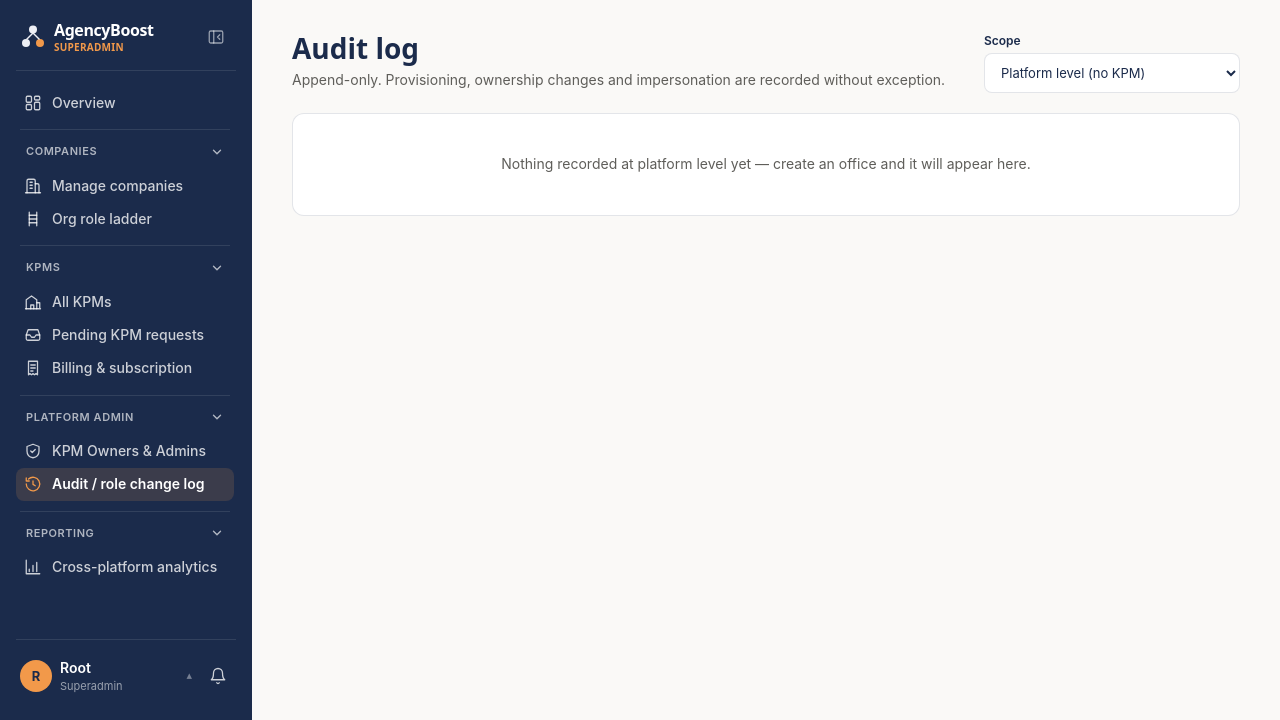
Test: audit log › tells an empty tenant scope apart from an empty platform scope
Expected: the text "Nothing recorded at platform level yet" is shown, [501, 155, 1031, 172]
Select "0417 · BSD City Branch" in the dropdown labelled "Scope" at (1112, 73), box [984, 53, 1240, 93]
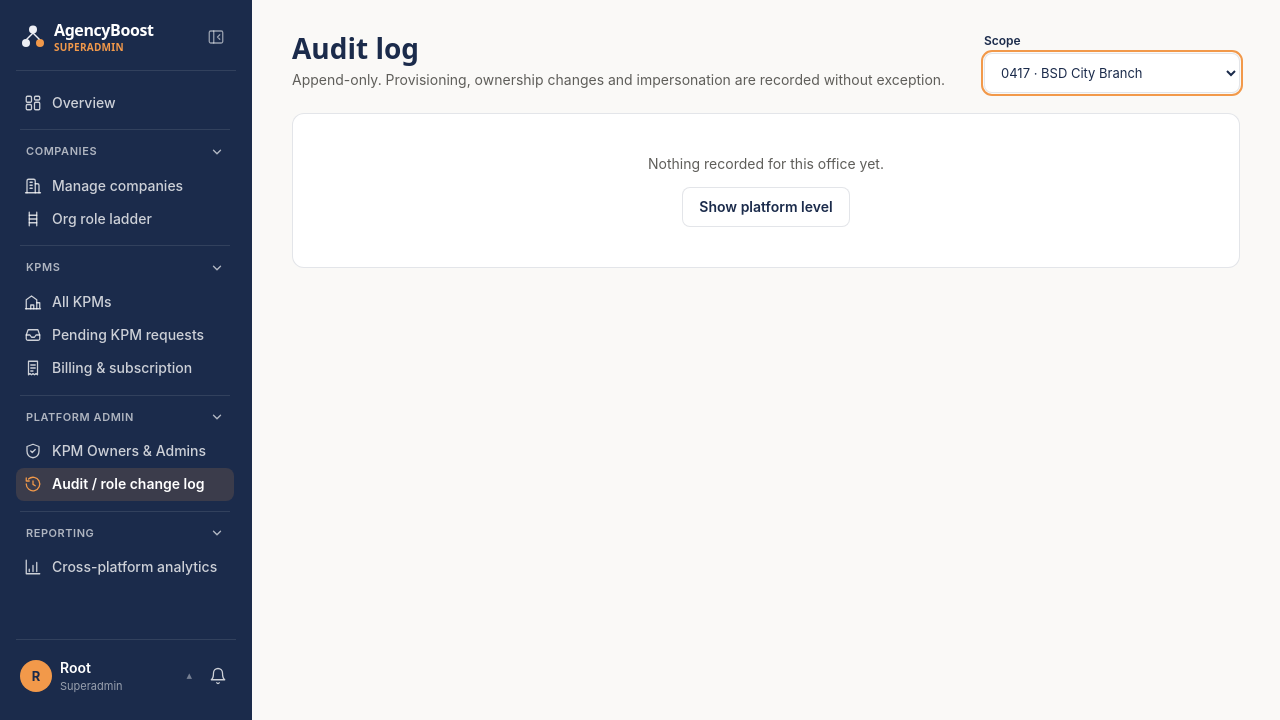
Expected: the text "Nothing recorded for this office yet." is shown, [648, 155, 884, 172]
